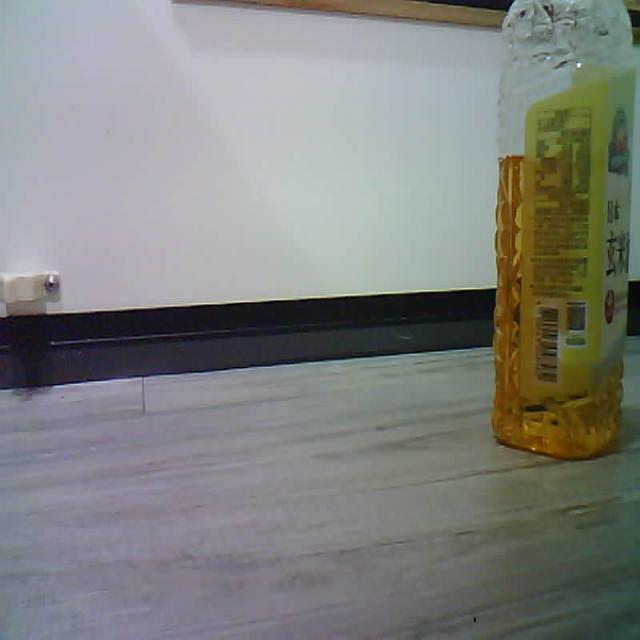bottle: (492, 0, 636, 458)
